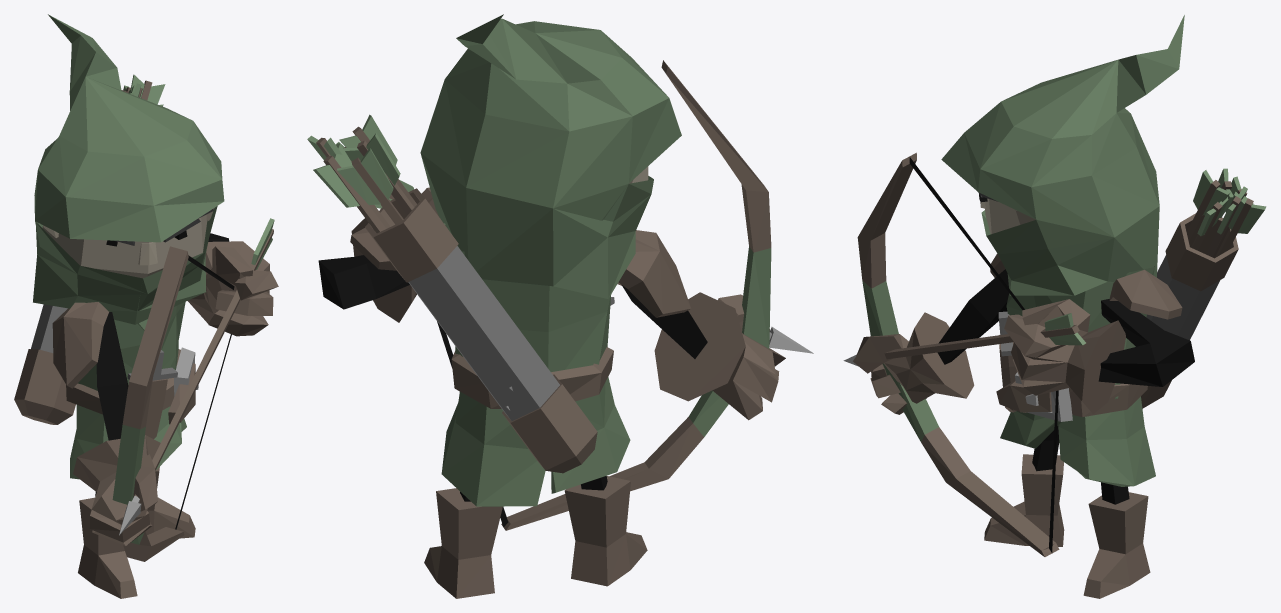
The model's file is greenGuy.fbx.
The picture shows the model from 3 angles, left to right: view 1: azimuth 30°, elevation 25°; view 2: azimuth 150°, elevation 25°; view 3: azimuth 270°, elevation 25°; orthographic projection. The views are drawn at different scales.
Parts seen in each view (by area): view 1: pPlane2_green_0__ID14, pPlane2_brown_0__ID26, pPlane2_skin4_0__ID166, pPlane2_lambert2_0__ID50, pPlane2_dark_metal_0__ID38, pPlane2_light_metal_0__ID73, pPlane2_lambert6_0__ID178; view 2: pPlane2_green_0__ID14, pPlane2_brown_0__ID26, pPlane2_dark_metal_0__ID38, pPlane2_lambert2_0__ID50, pPlane2_lambert6_0__ID178; view 3: pPlane2_green_0__ID14, pPlane2_brown_0__ID26, pPlane2_lambert2_0__ID50, pPlane2_lambert6_0__ID178, pPlane2_dark_metal_0__ID38, pPlane2_skin4_0__ID166, pPlane2_light_metal_0__ID73.
Part boxes in pixels (x1,y1,x2,y2): pPlane2_green_0__ID14: [33, 14, 224, 544]; pPlane2_brown_0__ID26: [14, 80, 278, 598]; pPlane2_skin4_0__ID166: [42, 208, 214, 278]; pPlane2_lambert2_0__ID50: [95, 230, 234, 529]; pPlane2_dark_metal_0__ID38: [31, 304, 177, 380]; pPlane2_light_metal_0__ID73: [119, 347, 198, 535]; pPlane2_lambert6_0__ID178: [123, 74, 274, 269]; pPlane2_green_0__ID14: [420, 14, 771, 506]; pPlane2_brown_0__ID26: [316, 60, 785, 598]; pPlane2_dark_metal_0__ID38: [408, 246, 614, 420]; pPlane2_lambert2_0__ID50: [318, 255, 707, 527]; pPlane2_lambert6_0__ID178: [307, 114, 413, 208]; pPlane2_green_0__ID14: [862, 15, 1184, 486]; pPlane2_brown_0__ID26: [853, 152, 1253, 598]; pPlane2_lambert2_0__ID50: [909, 157, 1194, 552]; pPlane2_lambert6_0__ID178: [1044, 168, 1266, 345]; pPlane2_dark_metal_0__ID38: [998, 255, 1219, 356]; pPlane2_skin4_0__ID166: [980, 198, 1035, 234]; pPlane2_light_metal_0__ID73: [843, 354, 1072, 421].
Bounding box in the file's own units: 189 × 343 × 248.
